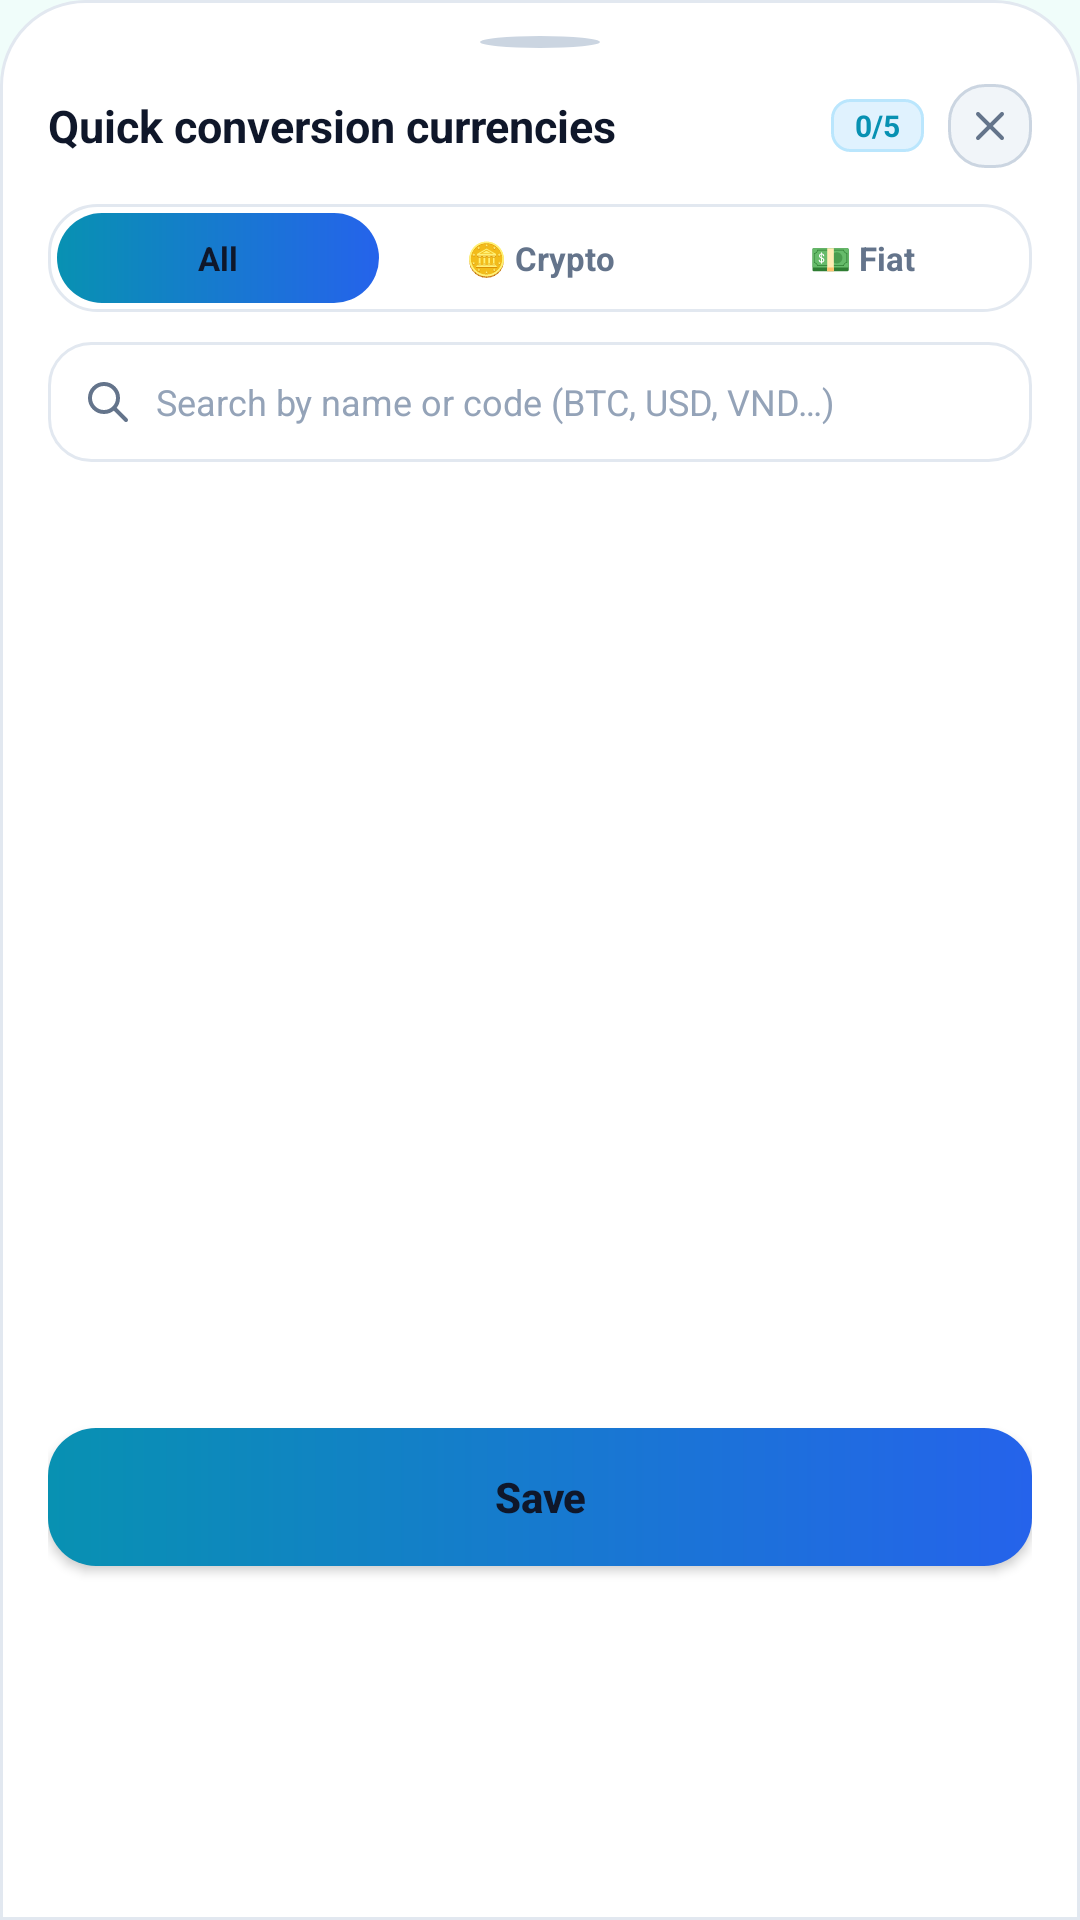

Locate icon controls on the screen. Image size 1080x1920, boxes as (left=x1, top=y1, right=x2, bottom=y2).
close: (left=948, top=84, right=1032, bottom=168)
